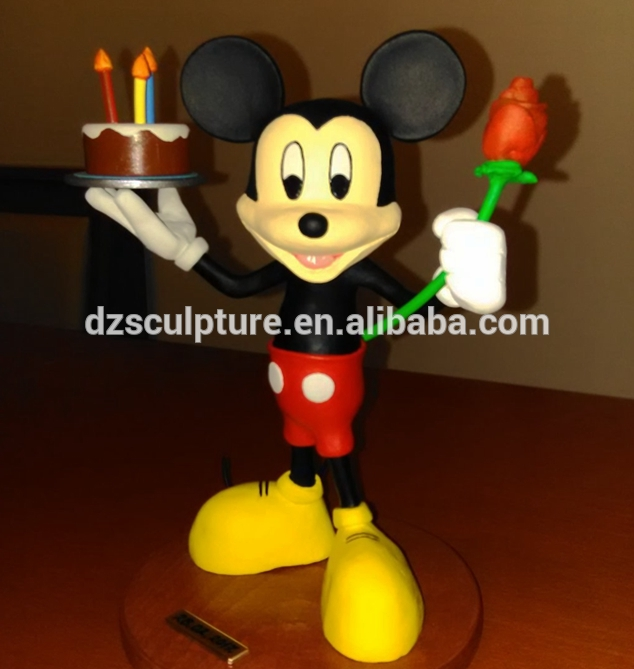Mickey: (178, 28, 467, 288)
